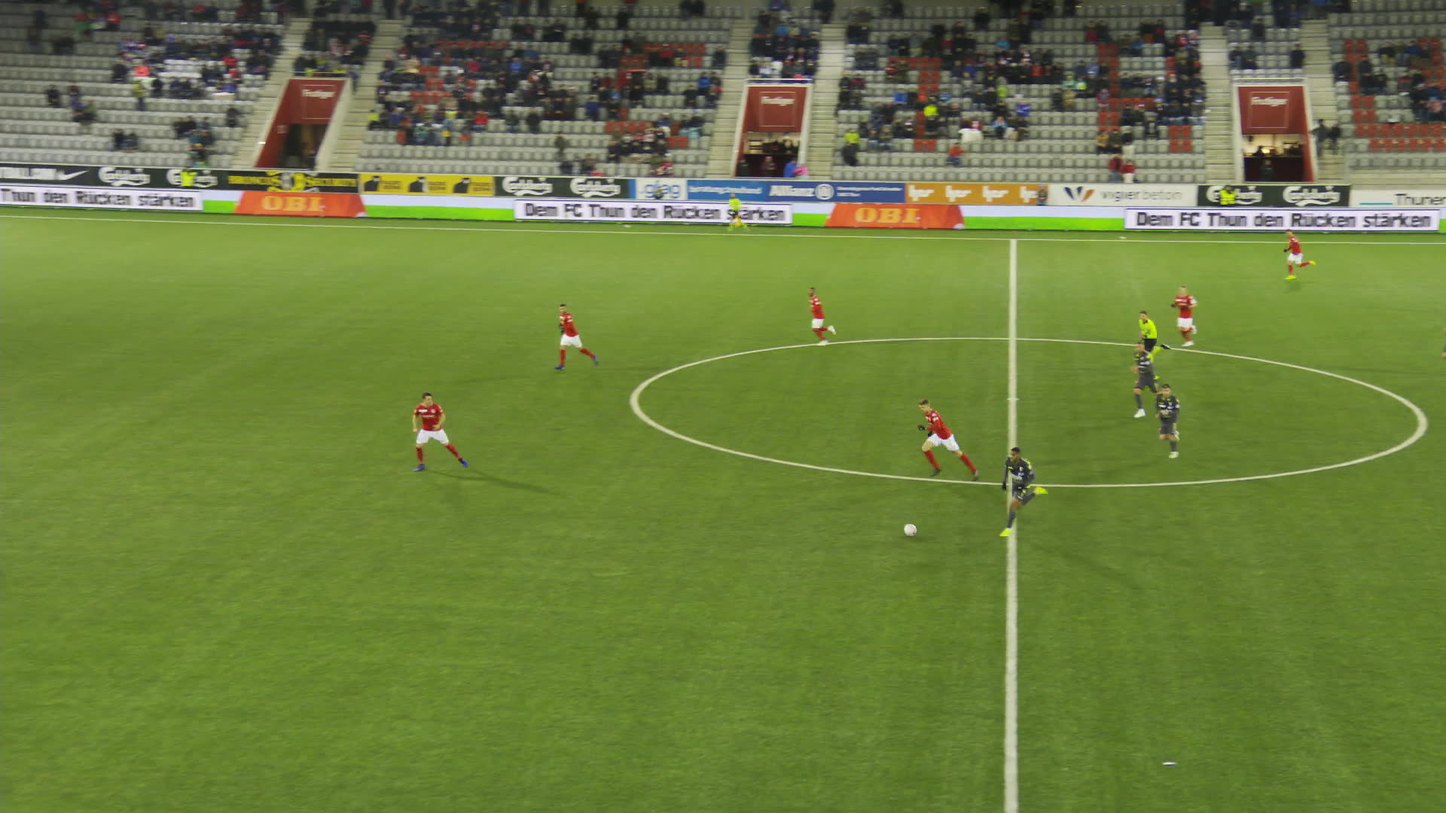ball: (902, 521, 917, 536)
player: (912, 397, 970, 486), (994, 440, 1049, 531), (406, 388, 450, 476), (1142, 378, 1188, 460), (1123, 342, 1158, 422), (797, 282, 839, 348), (547, 306, 586, 375), (1165, 280, 1198, 349), (1276, 228, 1308, 281), (1431, 303, 1445, 367)
referee: (1125, 306, 1172, 375), (718, 193, 739, 236)
